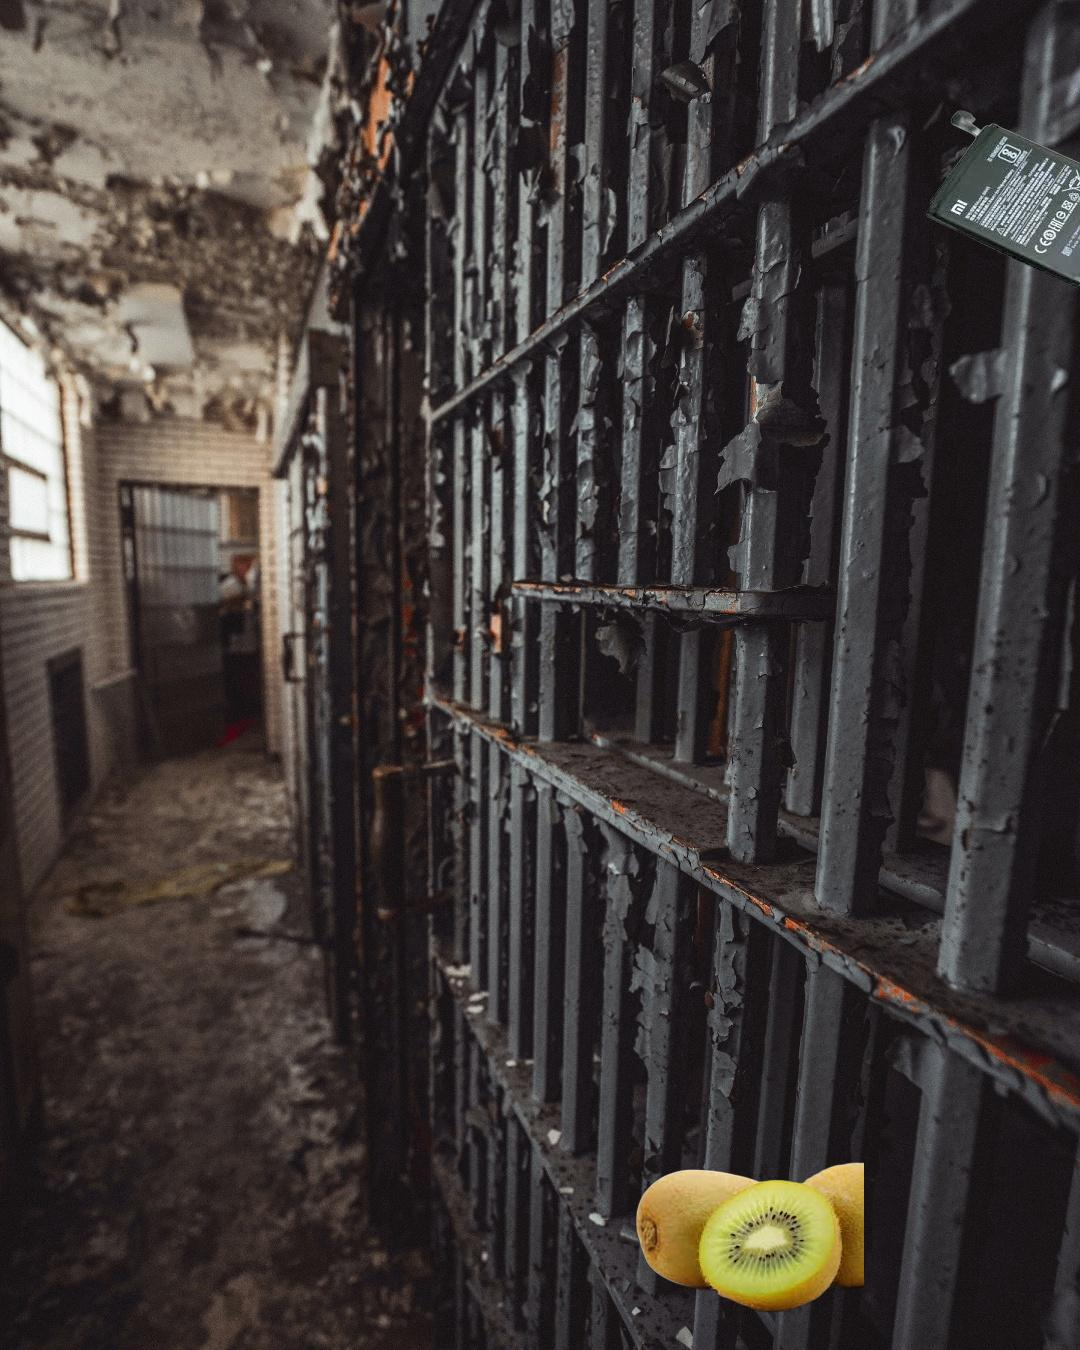battery: (924, 108, 1080, 292)
biological: (633, 1159, 864, 1313)
